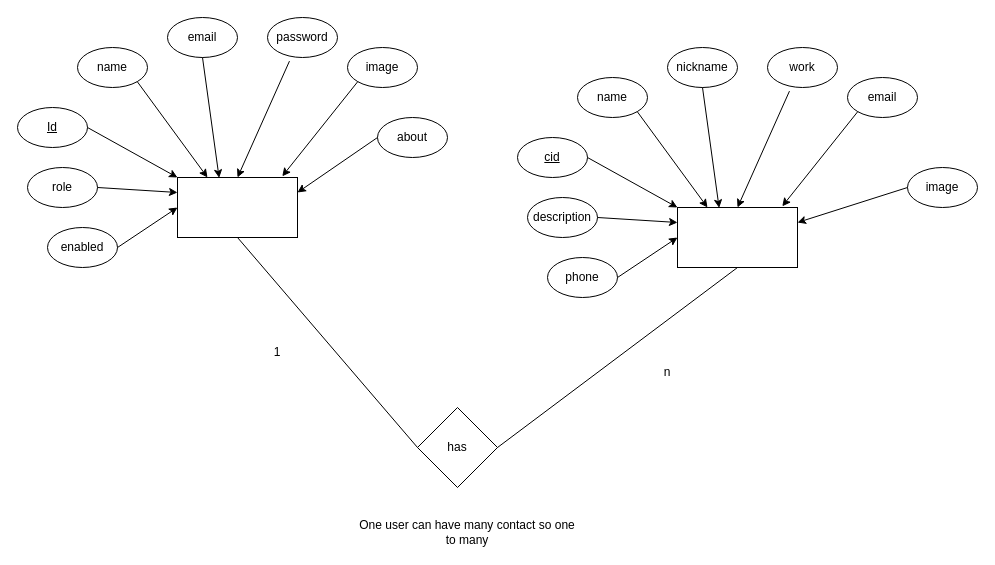
Some shapes in this 995 by 565 pixel diagram are drawn without their labels. Here are the shapes that lost their labels. From the top down, the box of each, then its label:
(176, 176, 298, 238): USER
(676, 206, 798, 268): Contact
